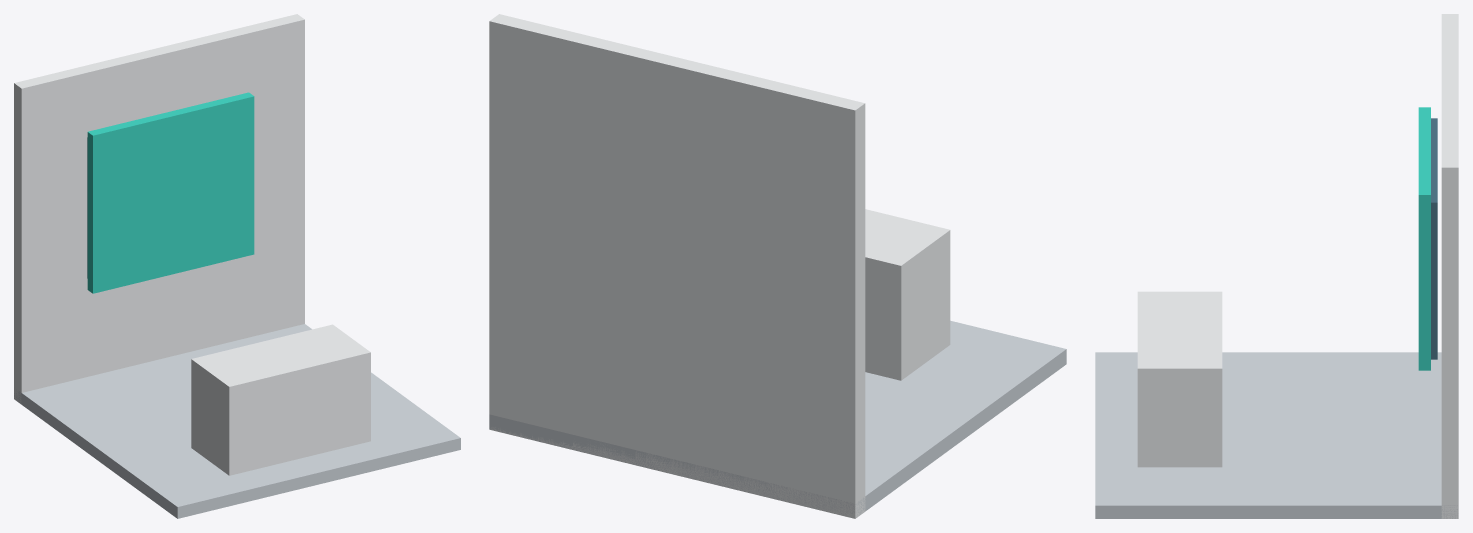
3 renders of one model, left to right at view 1: azimuth 30°, elevation 25°; view 2: azimuth 150°, elevation 25°; view 3: azimuth 270°, elevation 25°, orthographic. The views are drawn at different scales.
Parts seen in each view (by area): view 1: Exhibition Booth Concept; view 2: Exhibition Booth Concept; view 3: Exhibition Booth Concept.
Boxes of the visible parts, box(x1,y1,x2,y2) form: Exhibition Booth Concept: box(14, 14, 460, 518); Exhibition Booth Concept: box(489, 14, 1066, 518); Exhibition Booth Concept: box(1095, 14, 1458, 518).
Size of the model in its own units: 3 by 3.2 by 3.
